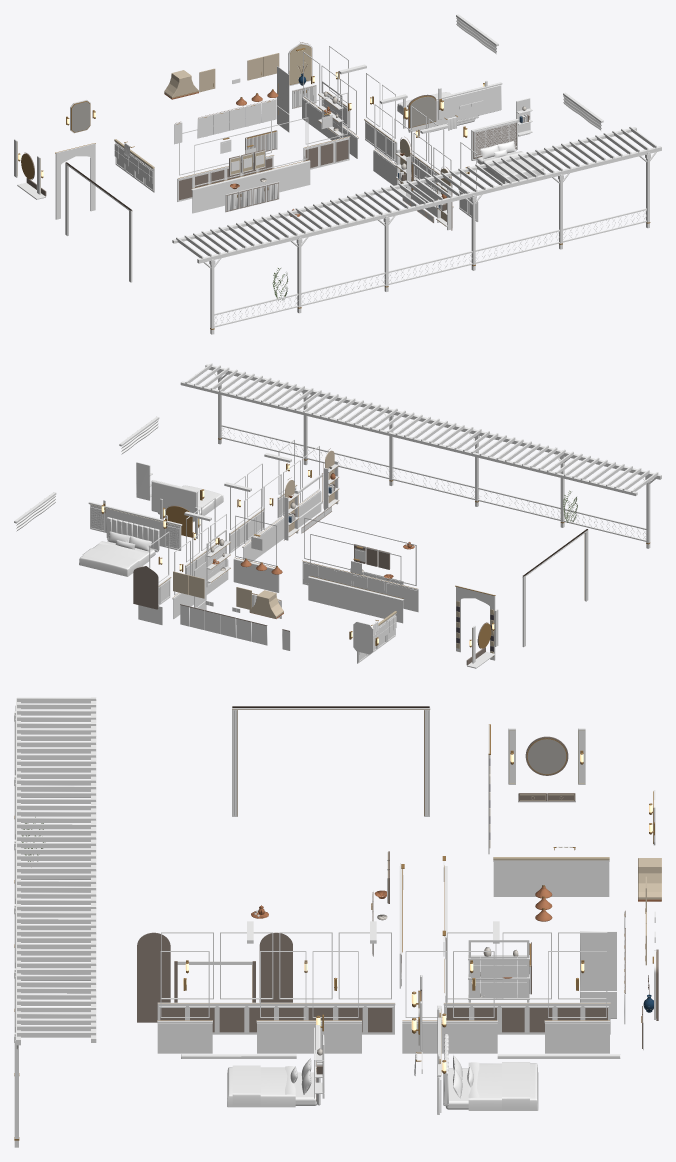
File: residence-interiors.glb
The picture shows the model from 3 angles, top to bottom: view 1: azimuth 30°, elevation 25°; view 2: azimuth 150°, elevation 25°; view 3: azimuth 270°, elevation 25°; orthographic projection. The views are drawn at different scales.
Parts seen in each view (by area): view 1: static-material-batches.010, static-material-batches.005, static-material-batches.004, static-material-batches.003, static-material-batches.002, static-material-batches.007, static-material-batches.006, static-material-batches, static-material-batches.009, static-material-batches.008, static-material-batches.011; view 2: static-material-batches.010, static-material-batches.005, static-material-batches.004, static-material-batches.006, static-material-batches.003, static-material-batches.002, static-material-batches.007, static-material-batches, static-material-batches.009, static-material-batches.011, static-material-batches.008; view 3: static-material-batches.010, static-material-batches.005, static-material-batches.003, static-material-batches.002, static-material-batches.006, static-material-batches.007, static-material-batches.009, static-material-batches, static-material-batches.011, static-material-batches.004.
Boxes of the visible parts, bbox=[...] form: static-material-batches.010: bbox=[172, 126, 661, 334]; static-material-batches.005: bbox=[288, 42, 478, 227]; static-material-batches.004: bbox=[177, 92, 350, 213]; static-material-batches.003: bbox=[164, 53, 343, 153]; static-material-batches.002: bbox=[225, 136, 452, 230]; static-material-batches.007: bbox=[463, 92, 603, 183]; static-material-batches.006: bbox=[397, 14, 502, 132]; static-material-batches: bbox=[14, 139, 95, 219]; static-material-batches.009: bbox=[66, 99, 154, 192]; static-material-batches.008: bbox=[403, 88, 483, 130]; static-material-batches.011: bbox=[65, 162, 132, 282]; static-material-batches.010: bbox=[180, 363, 661, 548]; static-material-batches.005: bbox=[133, 439, 321, 624]; static-material-batches.004: bbox=[233, 515, 418, 623]; static-material-batches.006: bbox=[14, 492, 182, 576]; static-material-batches.003: bbox=[173, 529, 290, 650]; static-material-batches.002: bbox=[284, 448, 414, 584]; static-material-batches.007: bbox=[119, 416, 223, 521]; static-material-batches: bbox=[455, 585, 498, 668]; static-material-batches.009: bbox=[349, 611, 396, 663]; static-material-batches.011: bbox=[522, 529, 588, 647]; static-material-batches.008: bbox=[160, 498, 200, 538]; static-material-batches.010: bbox=[14, 697, 96, 1147]; static-material-batches.005: bbox=[157, 921, 658, 1053]; static-material-batches.003: bbox=[468, 858, 661, 1024]; static-material-batches.002: bbox=[137, 851, 389, 1022]; static-material-batches.006: bbox=[437, 1005, 620, 1114]; static-material-batches.007: bbox=[181, 1014, 324, 1107]; static-material-batches.009: bbox=[493, 790, 655, 896]; static-material-batches: bbox=[488, 724, 585, 854]; static-material-batches.011: bbox=[232, 706, 430, 816]; static-material-batches.004: bbox=[399, 856, 447, 1002].
Size of the model in its own units: 18.33 by 3.01 by 14.7.
